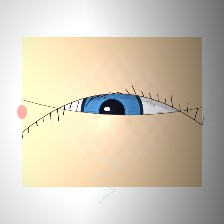foreign_body_visible: (144, 107, 179, 135)
